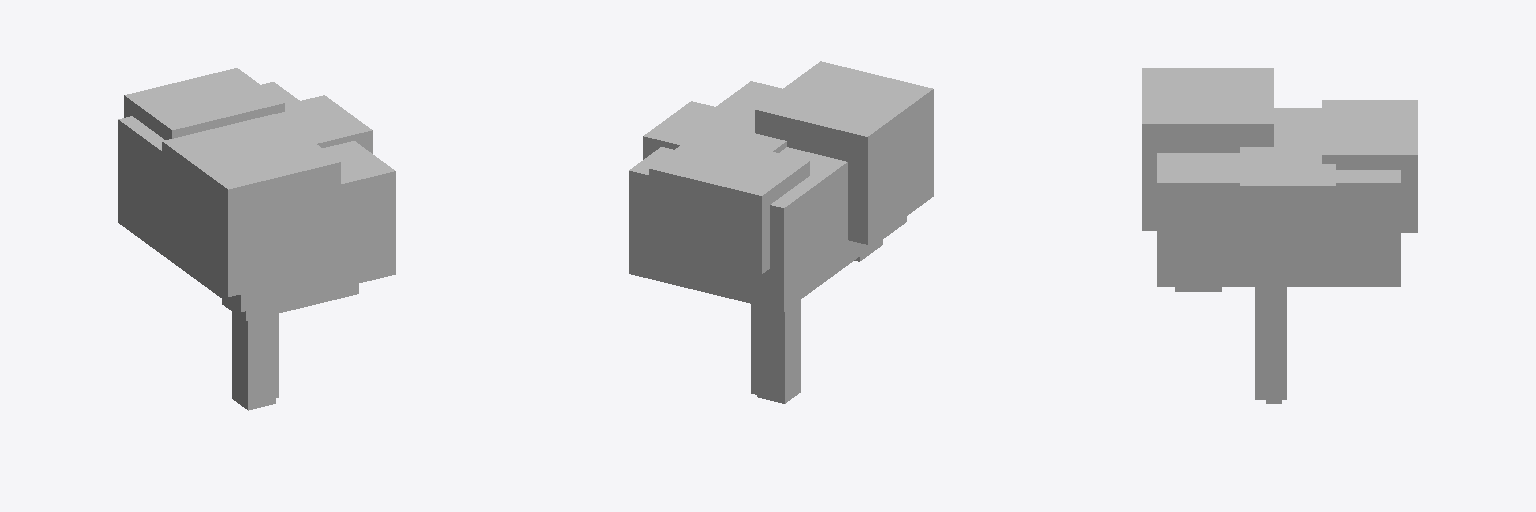
The model's file is tree2.obj.
The picture shows the model from 3 angles: view 1: azimuth 30°, elevation 25°; view 2: azimuth 150°, elevation 25°; view 3: azimuth 270°, elevation 25°; orthographic projection.
Parts seen in each view (by area): view 1: cube; view 2: cube; view 3: cube.
Part boxes in pixels (left/top/right/bottom): cube: left=118, top=68, right=395, bottom=410; cube: left=629, top=61, right=933, bottom=403; cube: left=1142, top=68, right=1417, bottom=403.
Bounding box in the file's own units: 0.8563 × 1.19 × 1.06.